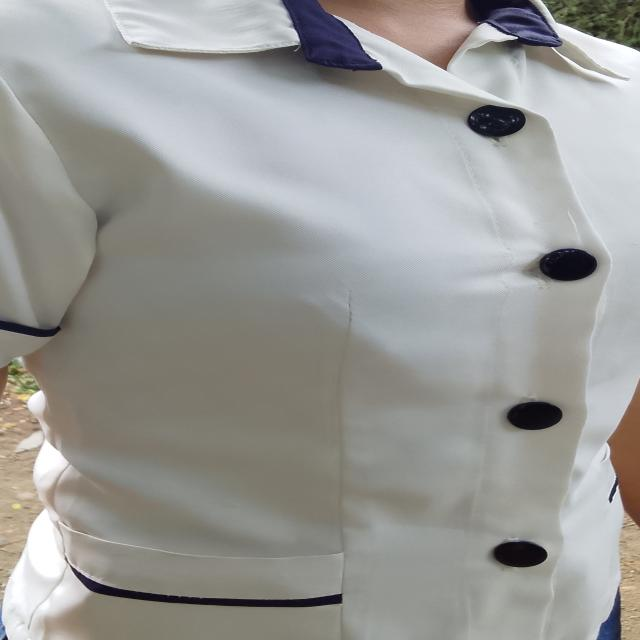education_female_uniform: (2, 3, 640, 640)
